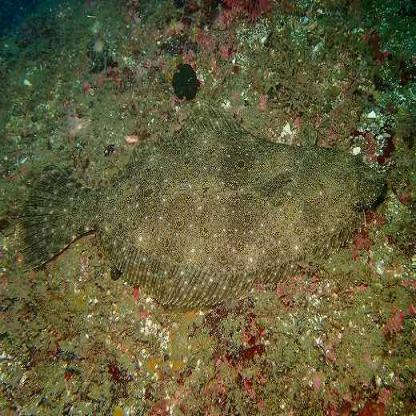flounder: (28, 105, 386, 309)
